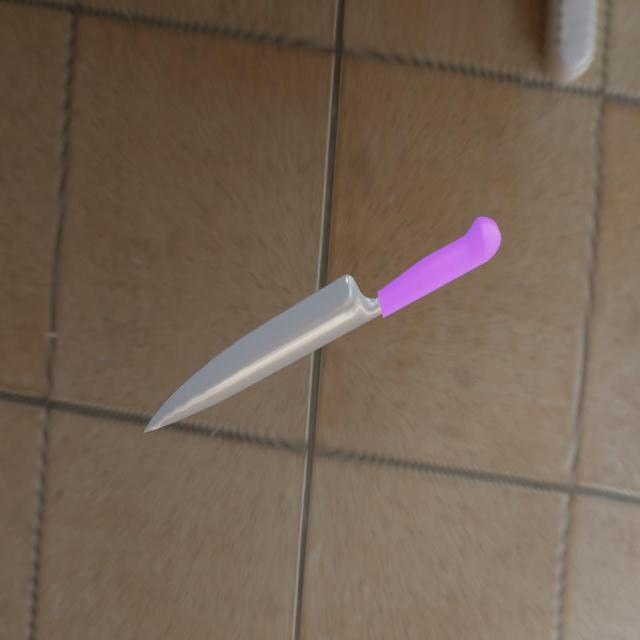knife: (375, 217, 502, 318)
